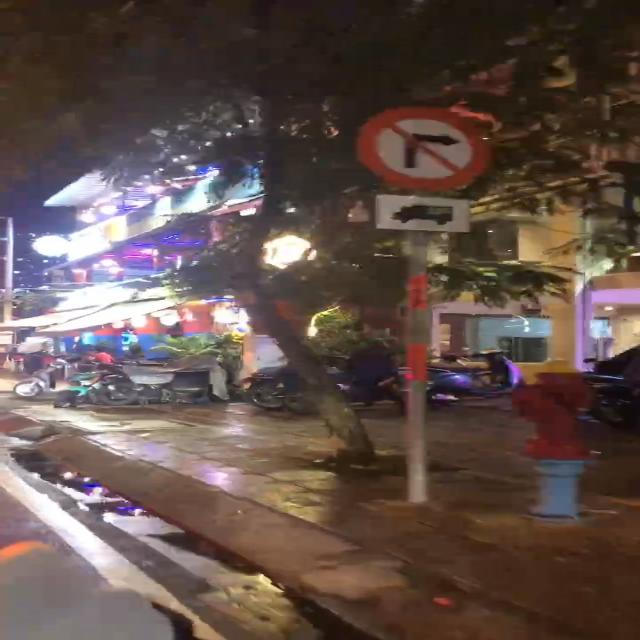Bien bao cam re phai: (356, 102, 508, 191)
